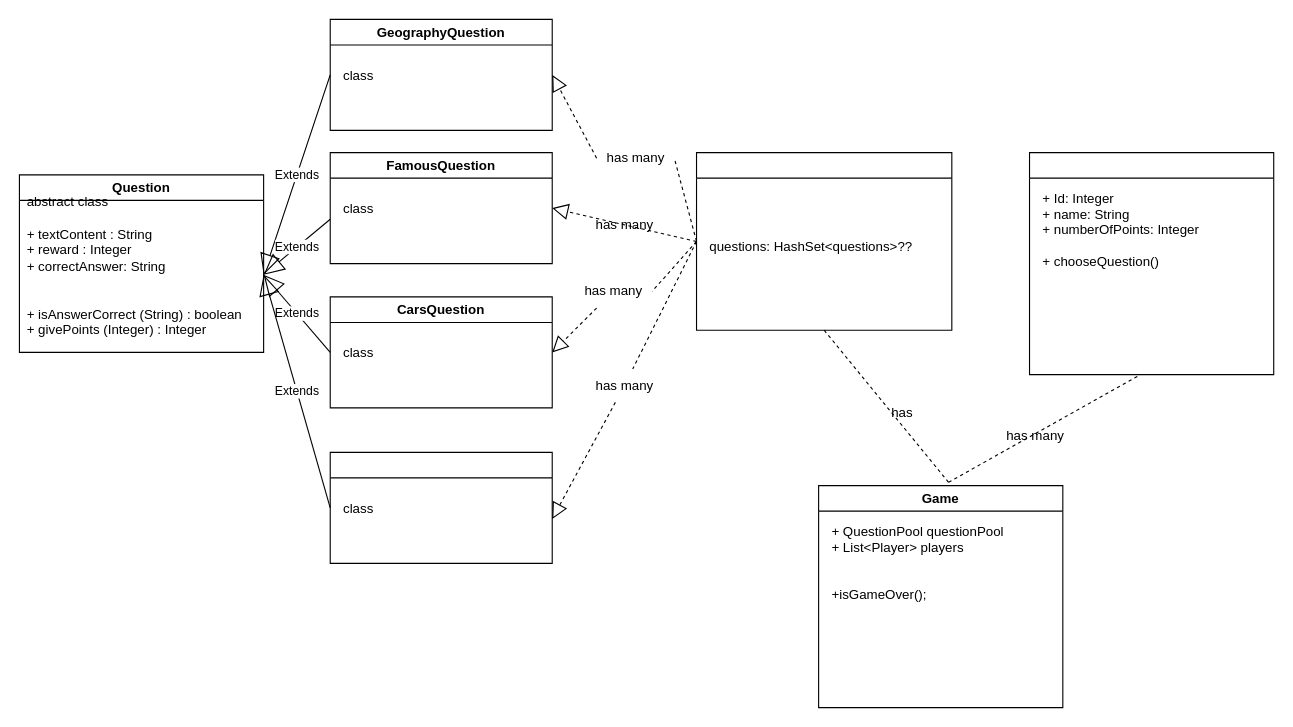
The diagram is 1293 pixels wide and 727 high, and some of its shapes have lost their labels. Each missing label, with the box of its shape:
Player: (1028, 152, 1274, 375)
QuestionPool: (695, 152, 952, 330)
SportsQuestion: (329, 451, 552, 563)
